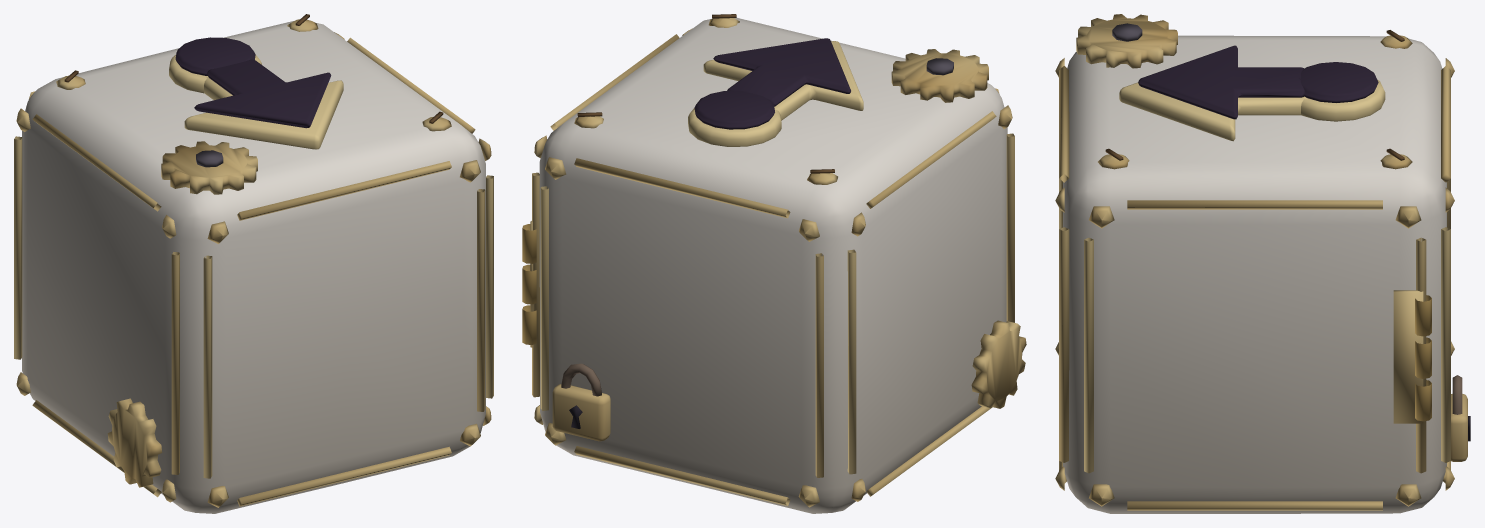
File: pirinc_hi.glb
The picture shows the model from 3 angles, left to right: view 1: azimuth 30°, elevation 25°; view 2: azimuth 150°, elevation 25°; view 3: azimuth 270°, elevation 25°; orthographic projection. The views are drawn at different scales.
Visible parts, largest first — view 1: pirinc_hi; view 2: pirinc_hi; view 3: pirinc_hi.
Part boxes in pixels (bbox=[...]): pirinc_hi: bbox=[14, 14, 493, 513]; pirinc_hi: bbox=[522, 14, 1026, 513]; pirinc_hi: bbox=[1055, 14, 1470, 513].
Size of the model in its own units: 0.987 by 0.9609 by 0.975.
